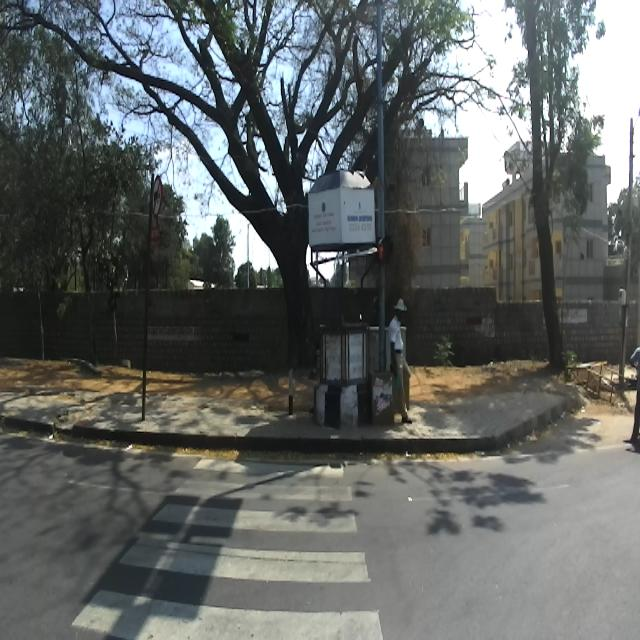person ahead at: (383, 289, 412, 434)
zebra crossing ahead at: (75, 438, 388, 640)
